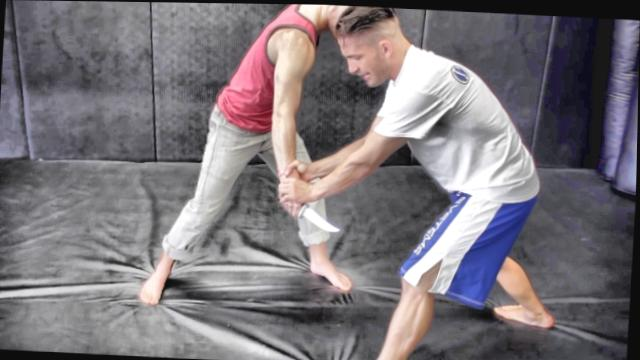knife: (277, 200, 346, 236)
